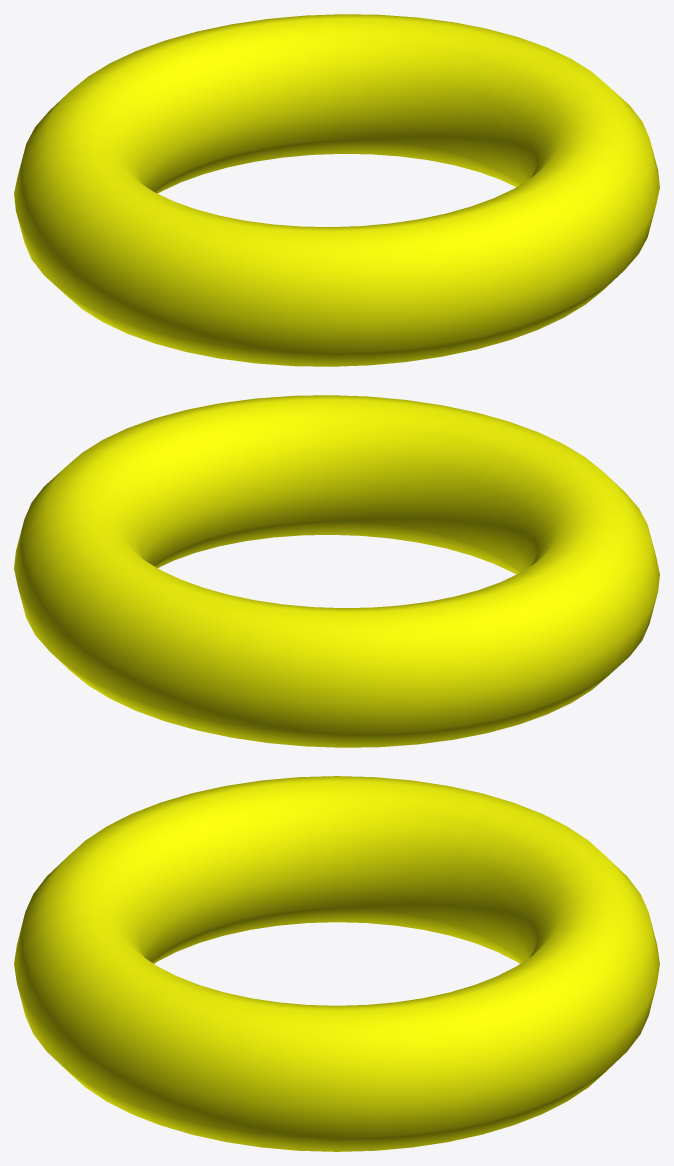
3 renders of one model, top to bottom at view 1: azimuth 30°, elevation 25°; view 2: azimuth 150°, elevation 25°; view 3: azimuth 270°, elevation 25°, orthographic. The views are drawn at different scales.
Visible parts, largest first — view 1: トーラス.002; view 2: トーラス.002; view 3: トーラス.002.
Part boxes in pixels (x1=…): トーラス.002: x1=14, y1=14, x2=659, y2=366; トーラス.002: x1=14, y1=395, x2=659, y2=747; トーラス.002: x1=14, y1=776, x2=659, y2=1151.
Bounding box in the file's own units: 589 × 130 × 560.
